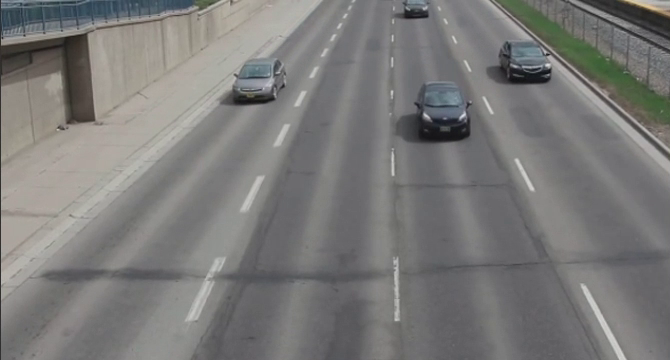car: (413, 80, 477, 145), (229, 50, 288, 107), (496, 34, 555, 91), (395, 1, 438, 21)
